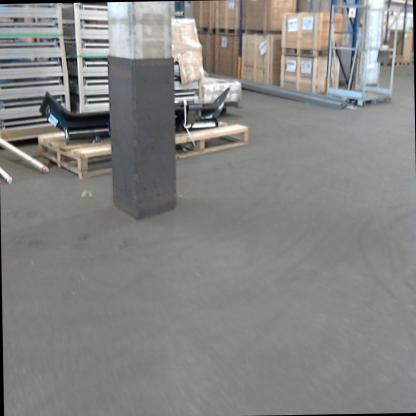pallet: (38, 97, 261, 182), (280, 43, 340, 59), (239, 23, 284, 39), (212, 26, 242, 37), (193, 23, 212, 37), (402, 62, 413, 68), (391, 60, 402, 65)
